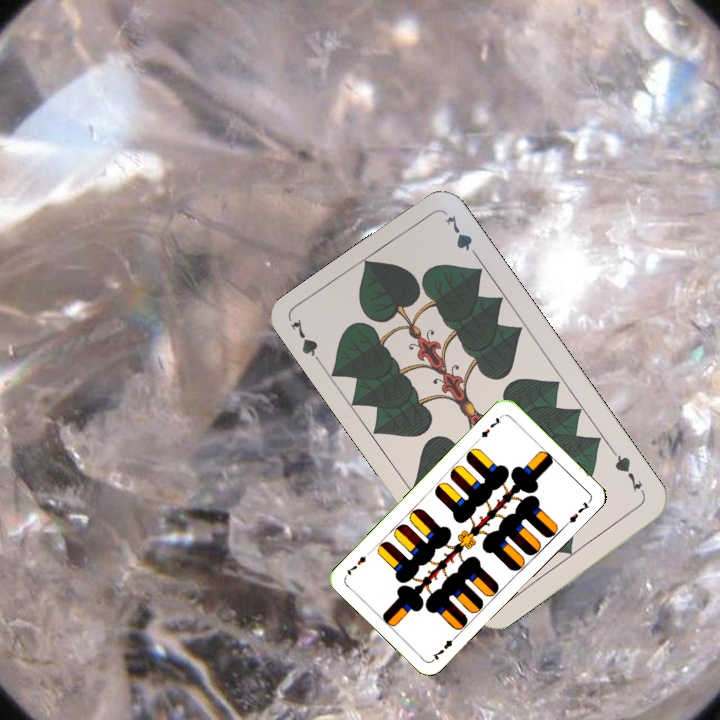E7: (428, 630, 461, 663), (474, 411, 506, 444)
G7: (286, 315, 327, 370), (608, 447, 648, 499)
